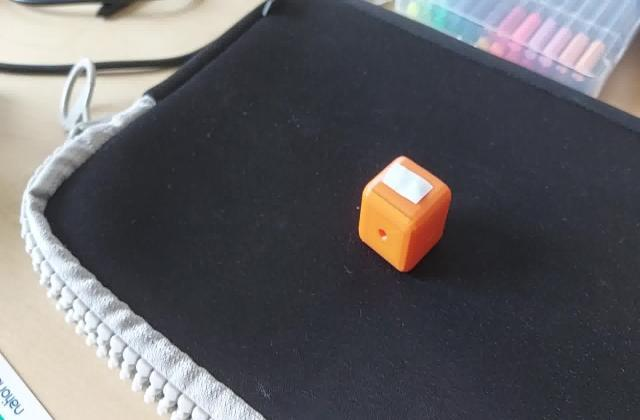sticker: (354, 153, 454, 277)
white: (388, 174, 436, 206)
